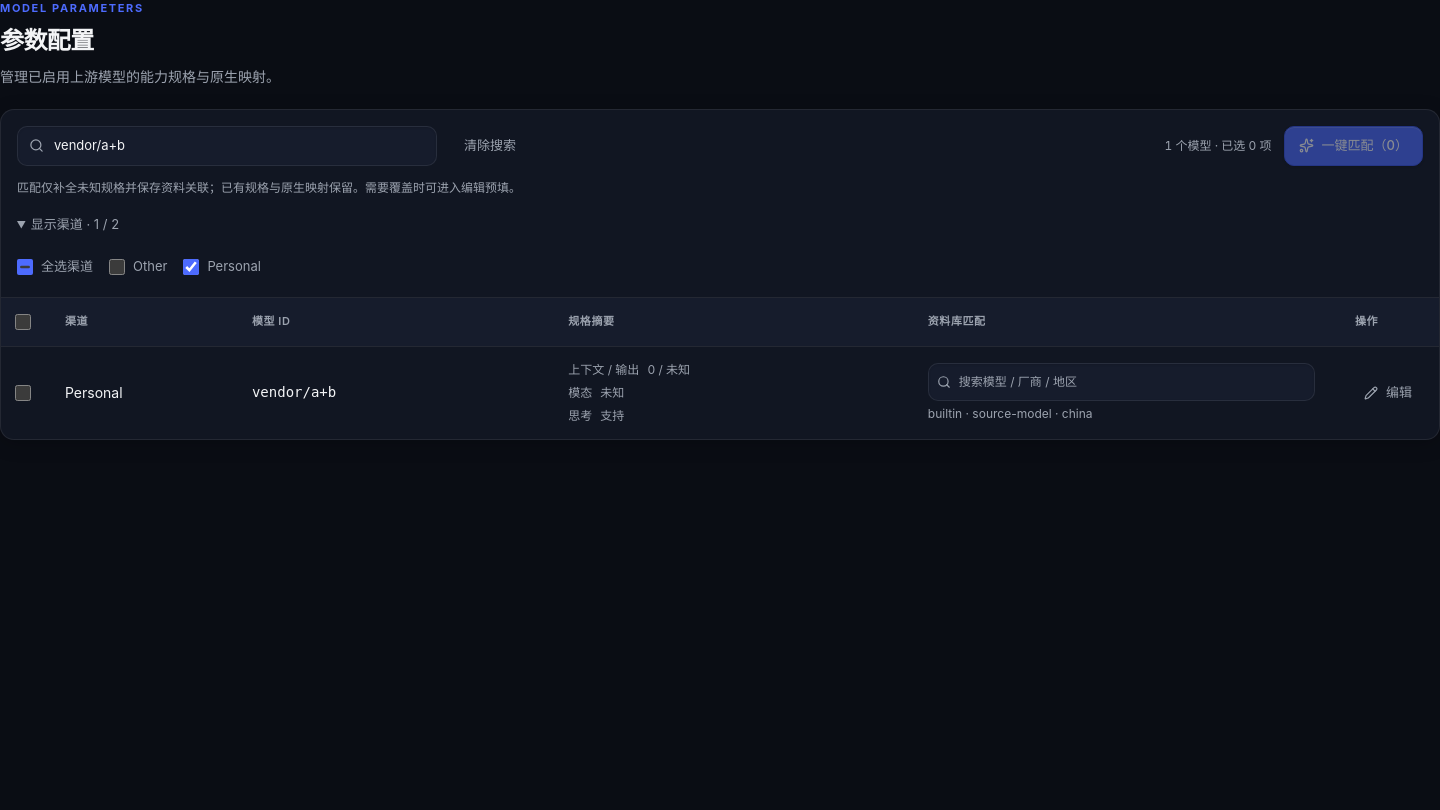
Test: dedicated model specifications › keeps a failed save editable and retains a dirty draft when leaving is declined
The width and height of the screenshot is (1440, 810).
Click the button "编辑".
click(1388, 393)  # box [1355,375,1421,411]
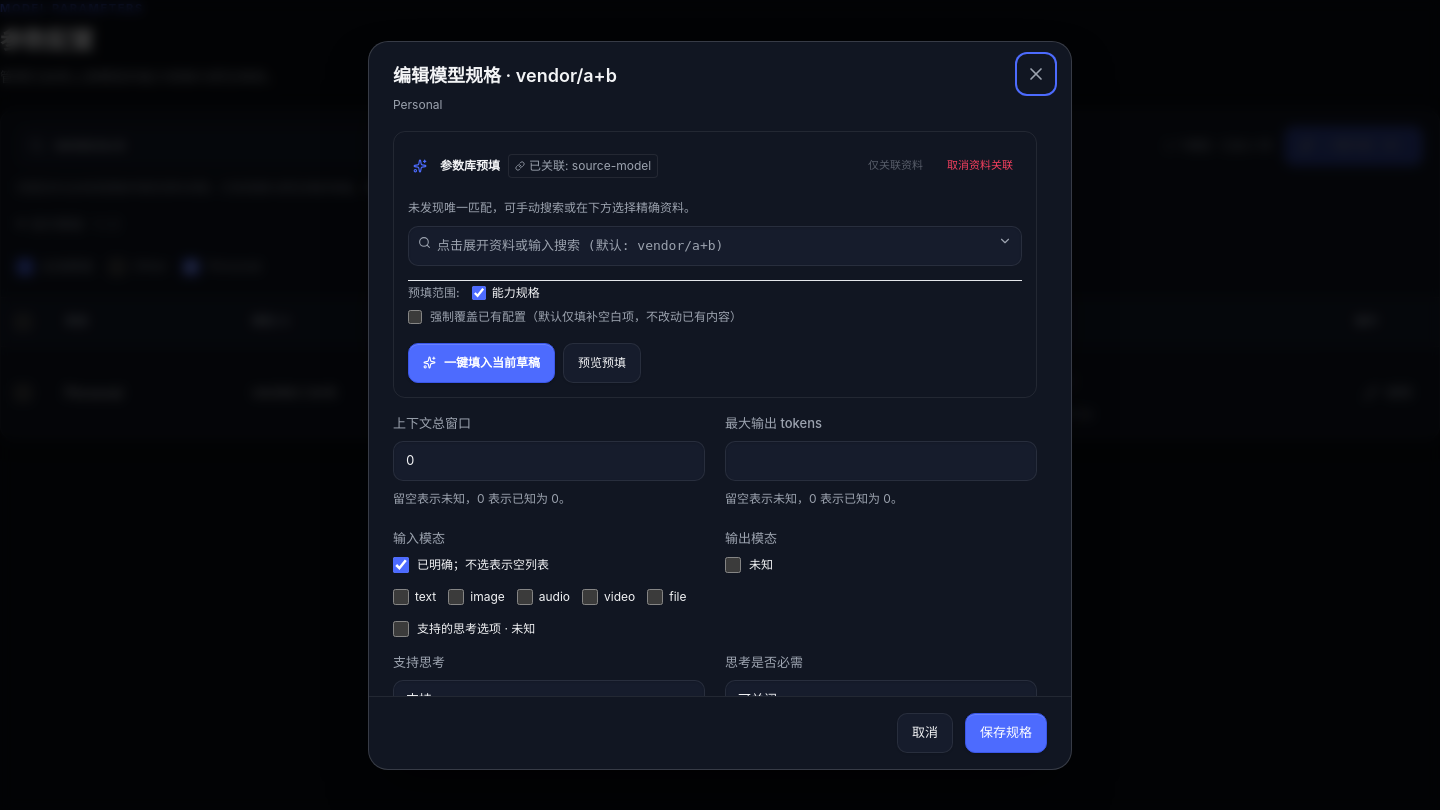
Type "123" into the number field labelled "最大输出 tokens".
click(881, 461); type("123")  # box [725,441,1037,481]
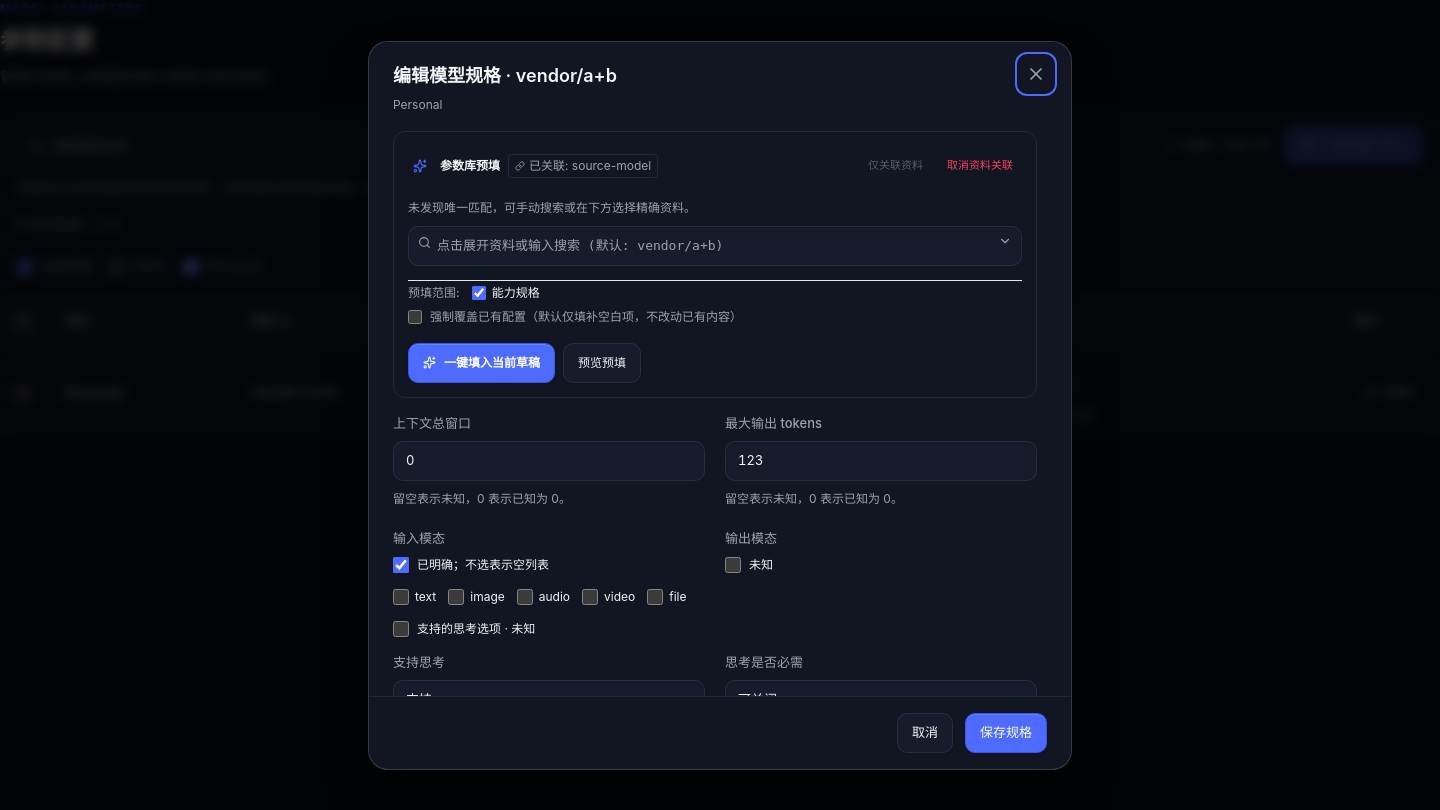
Click the button "保存规格".
click(1006, 732)  # box [965,712,1047,752]
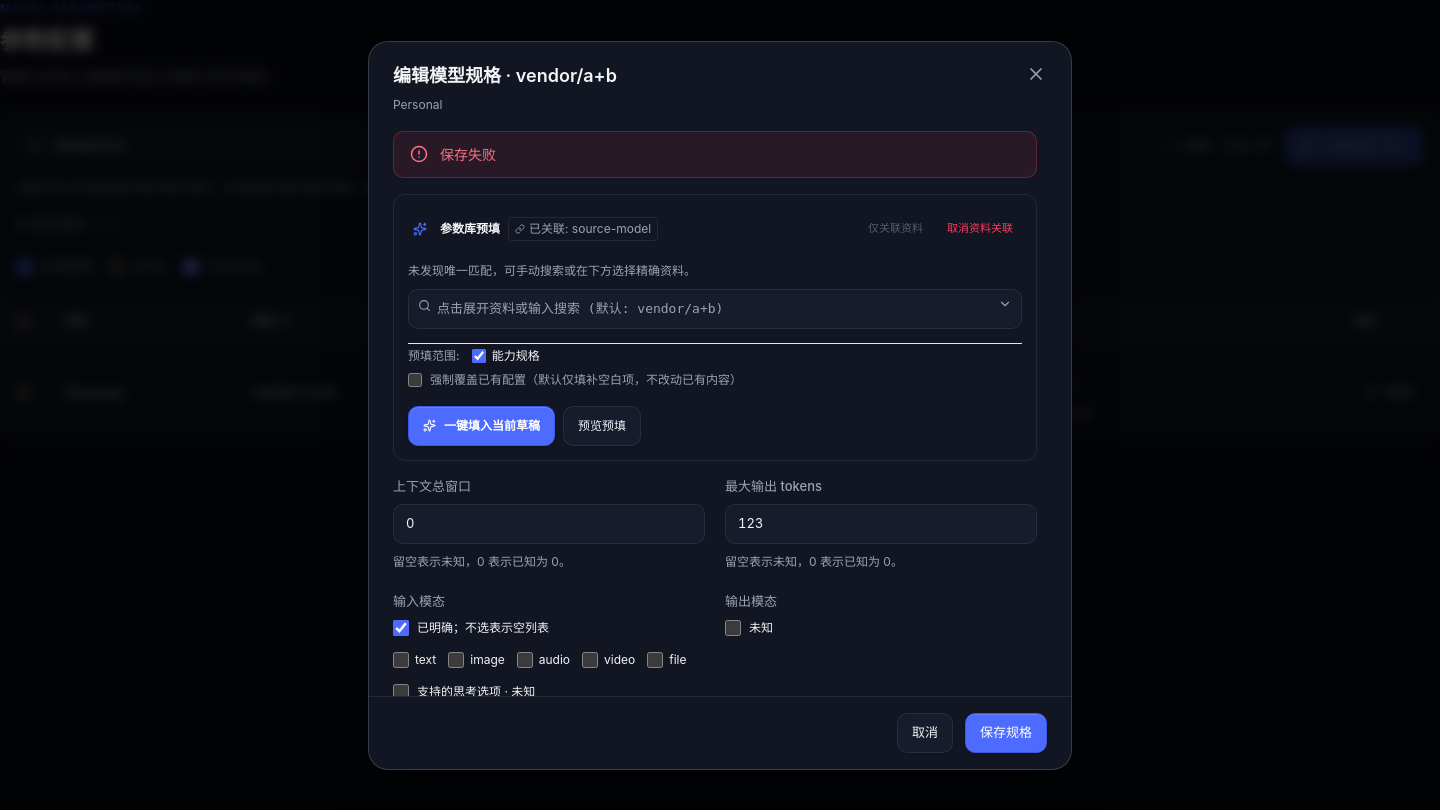
Now the text "保存失败" is shown, box [440,146,496,162]
Click the button "取消".
click(925, 732)  # box [897,712,953,752]
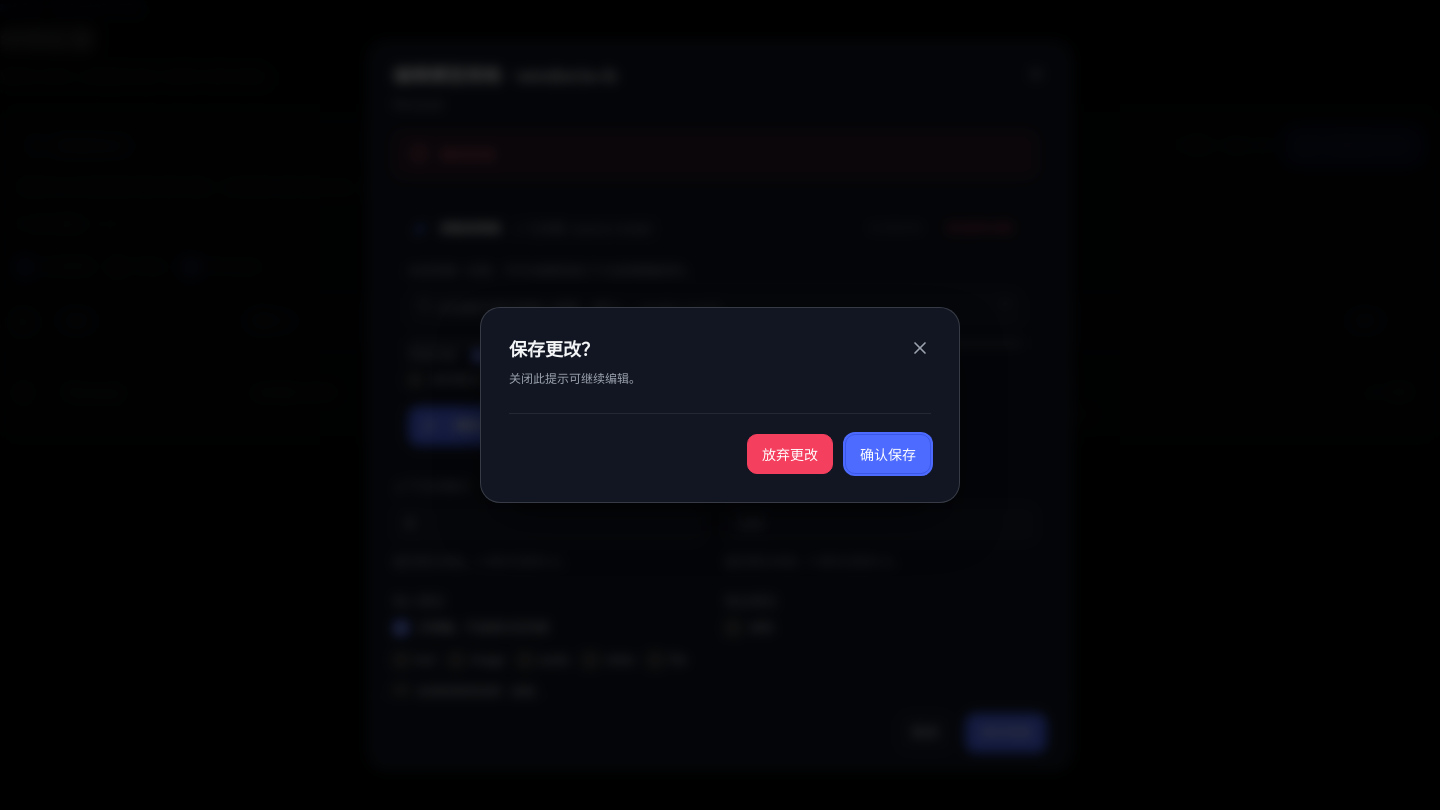
Click the button named "关闭弹窗".
click(920, 348)  # box [901,328,939,368]
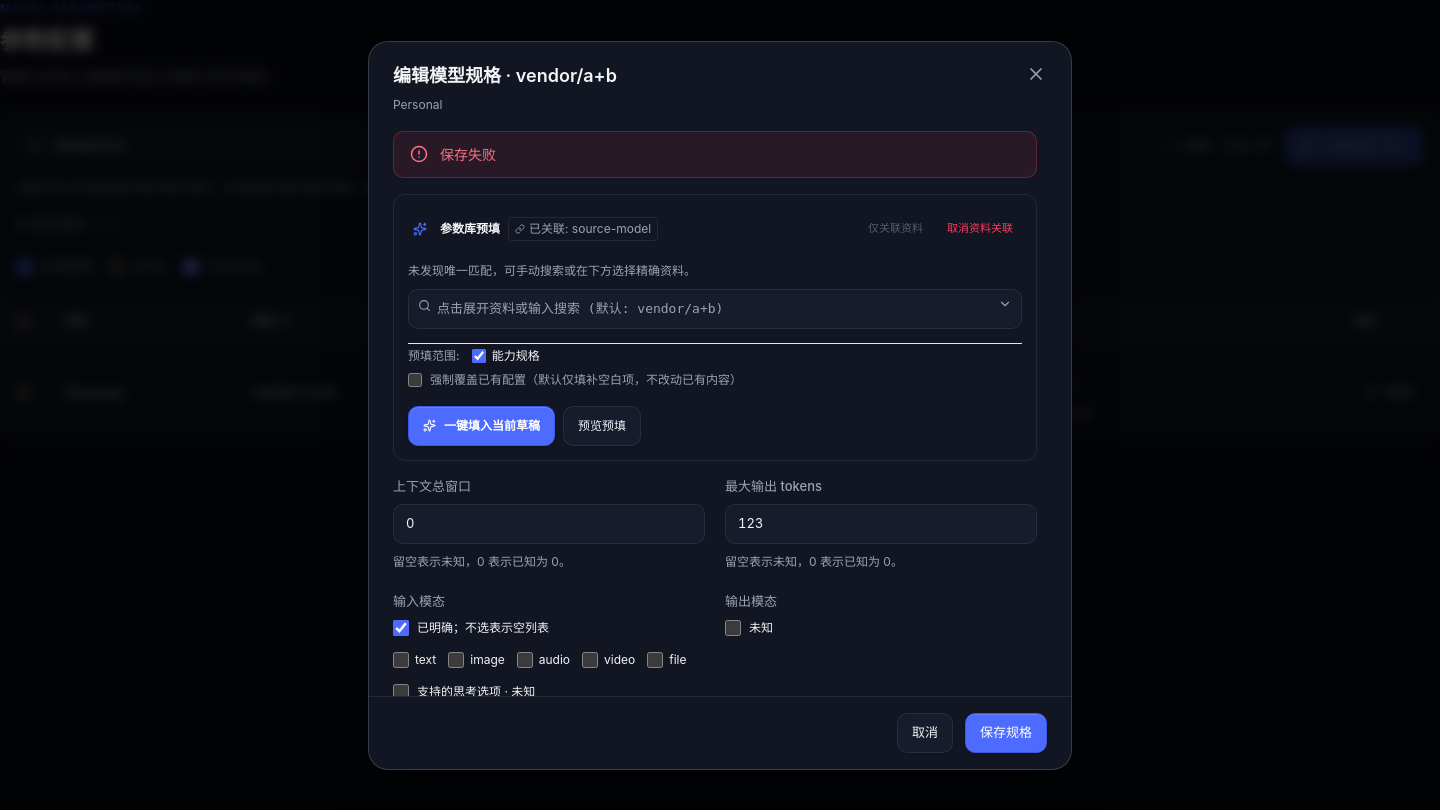
Now the heading "保存更改？" is gone
